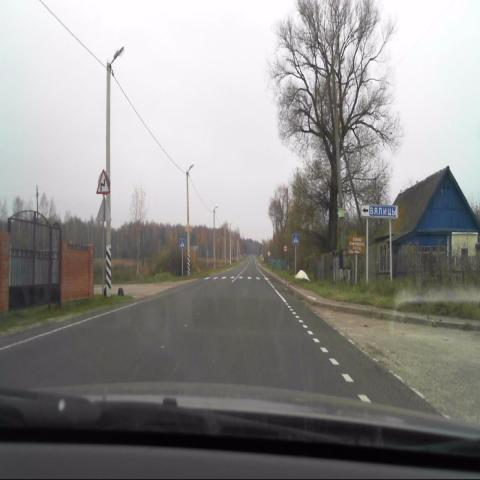1_12: (96, 169, 111, 196)
